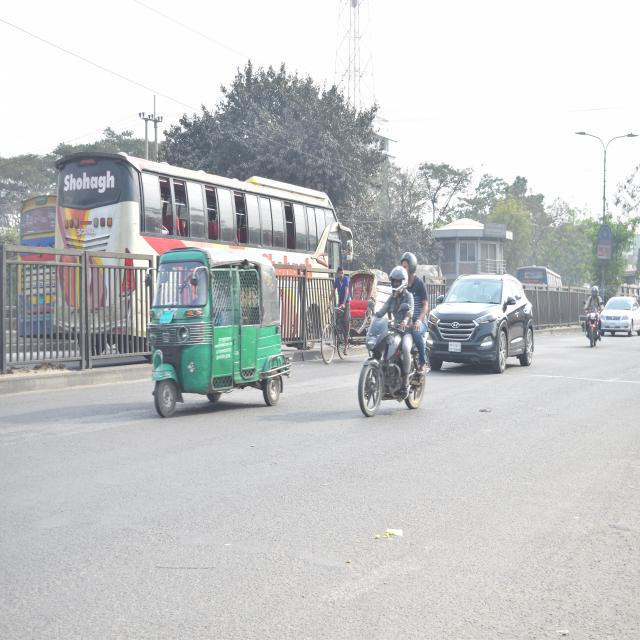car: (433, 263, 536, 375), (601, 290, 638, 339)
motorbike: (345, 284, 432, 418), (578, 293, 605, 354)
